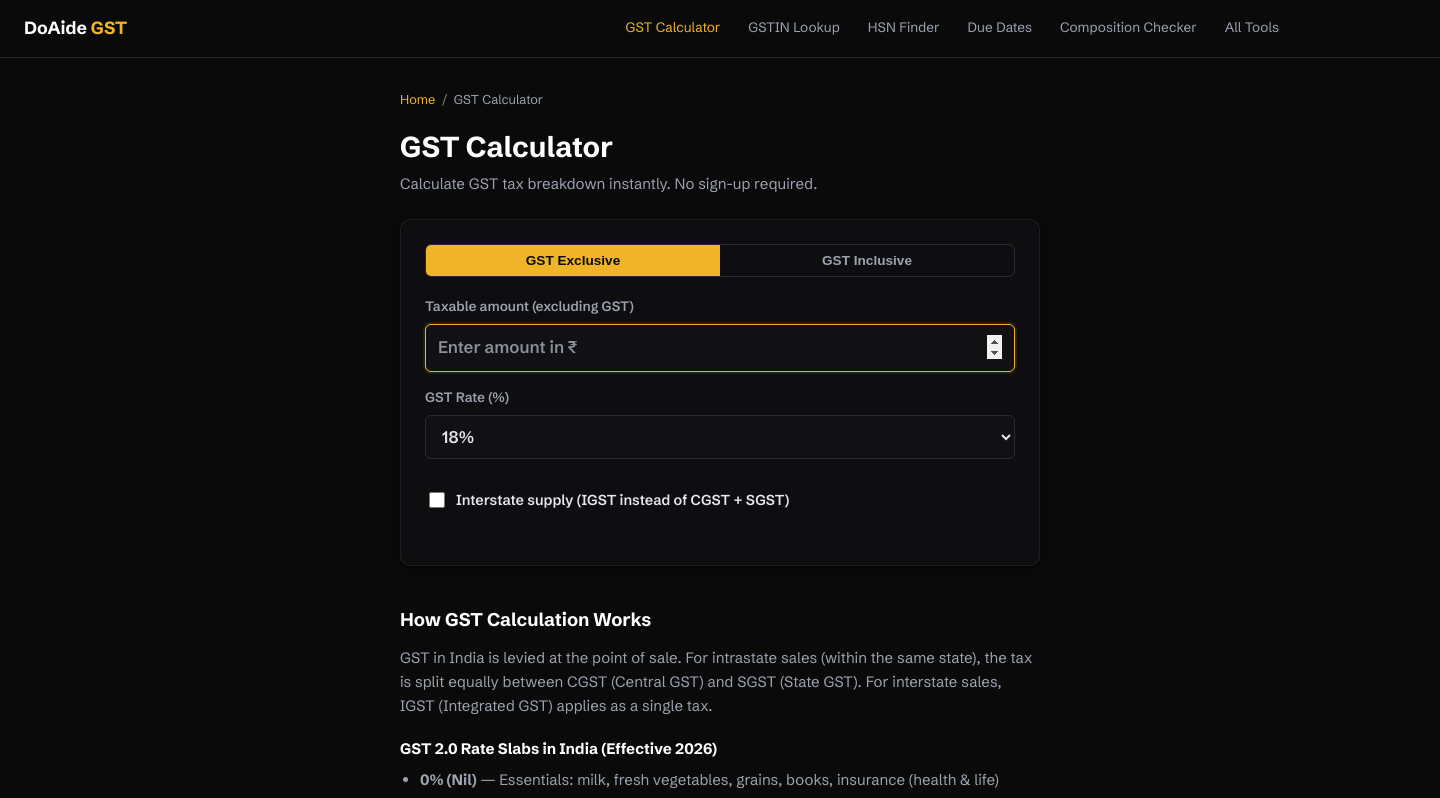
Scenario: CalculatorPage › shows tax breakdown when amount is entered
Type "1000" into the number field with placeholder "Enter amount in ₹" at (720, 348), box x1=425 y1=324 x2=1015 y2=372
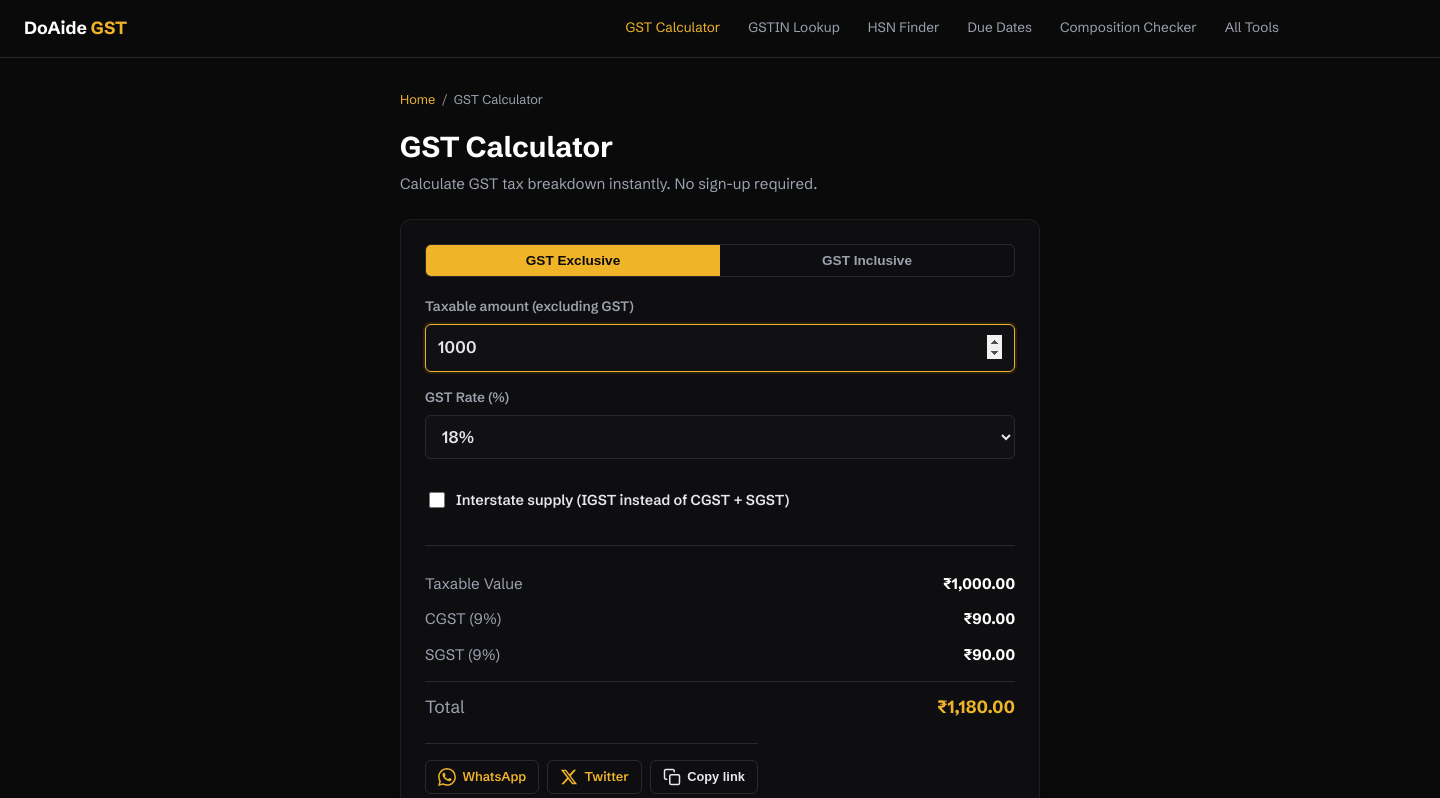
Check: the text "Taxable Value" is shown, box x1=425 y1=573 x2=523 y2=596
Check: the text "Total" is shown, box x1=425 y1=694 x2=465 y2=720
